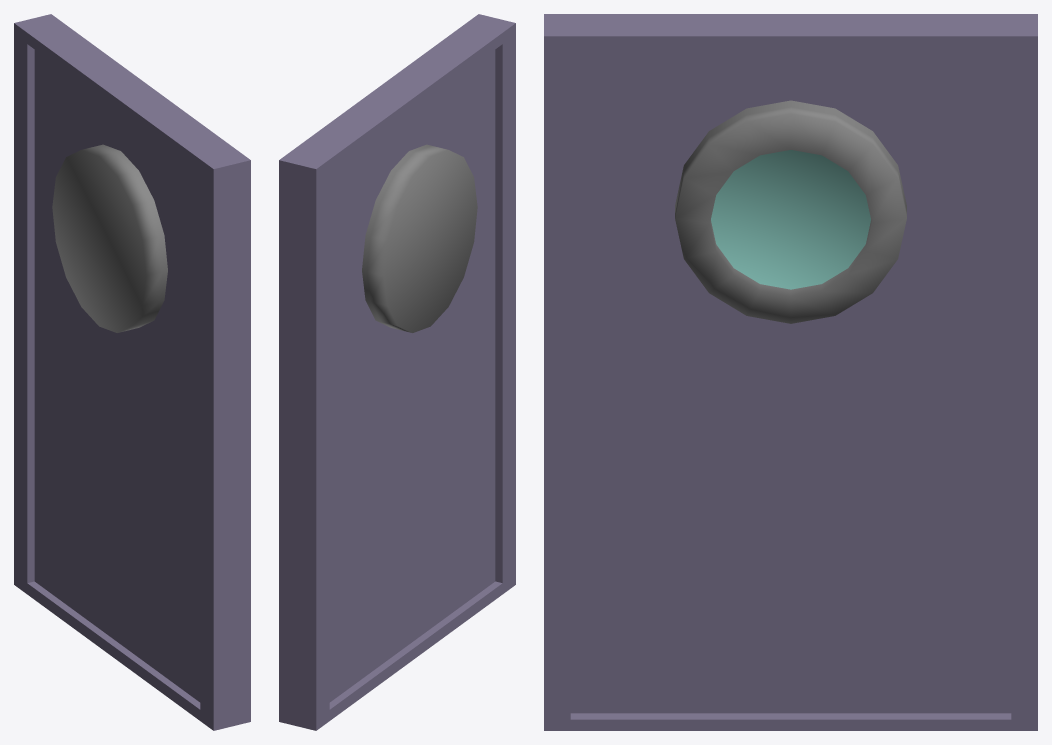
Rendered from Puerta.fbx.
3 renders of one model, left to right at view 1: azimuth 30°, elevation 25°; view 2: azimuth 150°, elevation 25°; view 3: azimuth 270°, elevation 25°, orthographic. The views are drawn at different scales.
Visible parts, largest first — view 1: Puerta; view 2: Puerta; view 3: Puerta.
Part boxes in pixels (x1,y1,x2,y2): Puerta: (14,14,250,730); Puerta: (279,14,515,730); Puerta: (544,14,1037,730).
Size of the model in its own units: 87.15 by 661 by 426.
